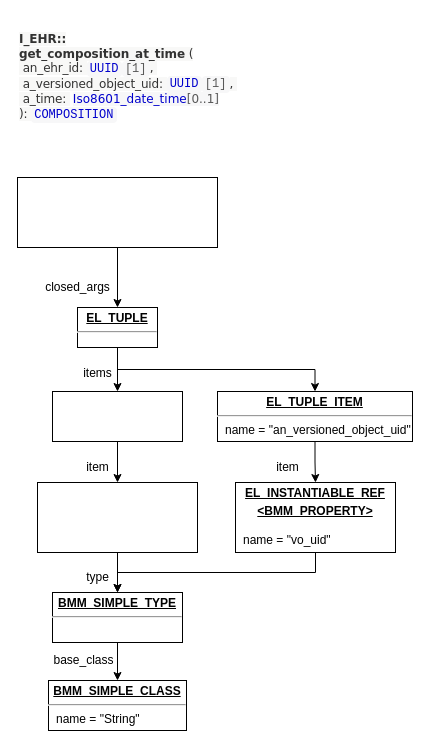
Image size: 430x748. Some labels were removed from this diagram. Here are the shapes that lost their labels. From the top down, the centre of each, then its label:
the point at 117,212: EL_FUNCTION_AGENT name = "get_composition_at_time" open_args = ["a_time"]
the point at 117,416: EL_TUPLE_ITEM name = "an_ehr_uid"
the point at 117,517: EL_INSTANTIABLE_REF <BMM_PROPERTY> name = "ehr_uid"
